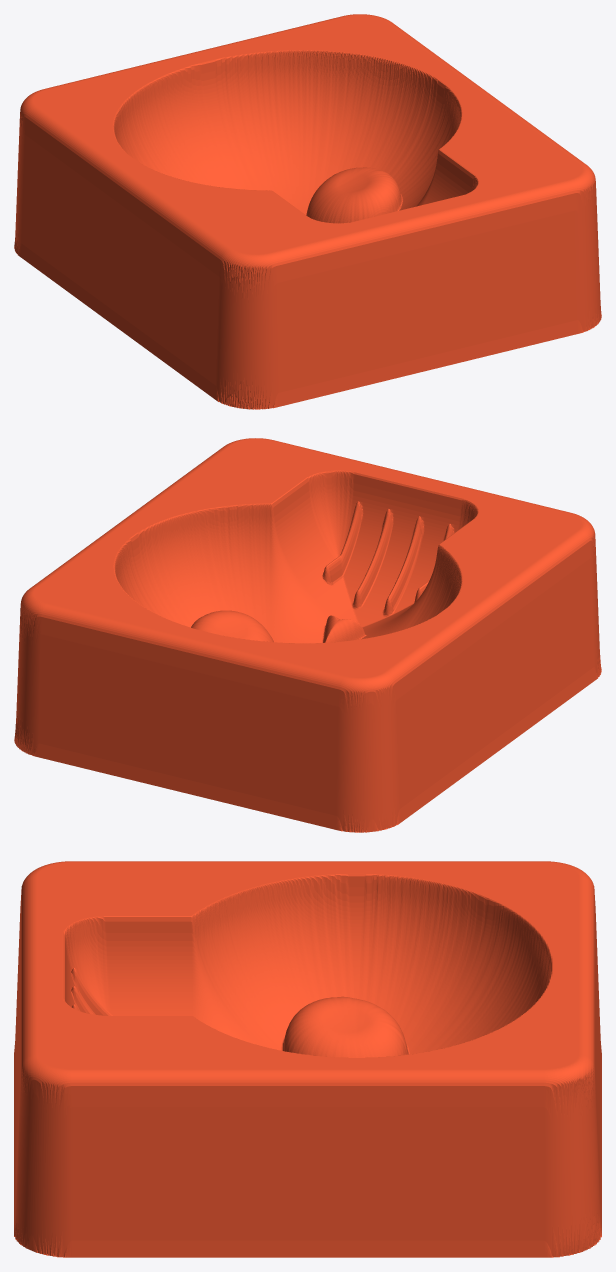
Rendered from mold.glb.
The picture shows the model from 3 angles, top to bottom: view 1: azimuth 30°, elevation 25°; view 2: azimuth 150°, elevation 25°; view 3: azimuth 270°, elevation 25°; orthographic projection. The views are drawn at different scales.
Parts seen in each view (by area): view 1: geometry_0; view 2: geometry_0; view 3: geometry_0.
Boxes of the visible parts, box(x1,y1,x2,y2) form: geometry_0: box(14, 14, 601, 409); geometry_0: box(14, 438, 601, 832); geometry_0: box(14, 861, 601, 1257).
Size of the model in its own units: 0.084 by 0.031 by 0.0924.
